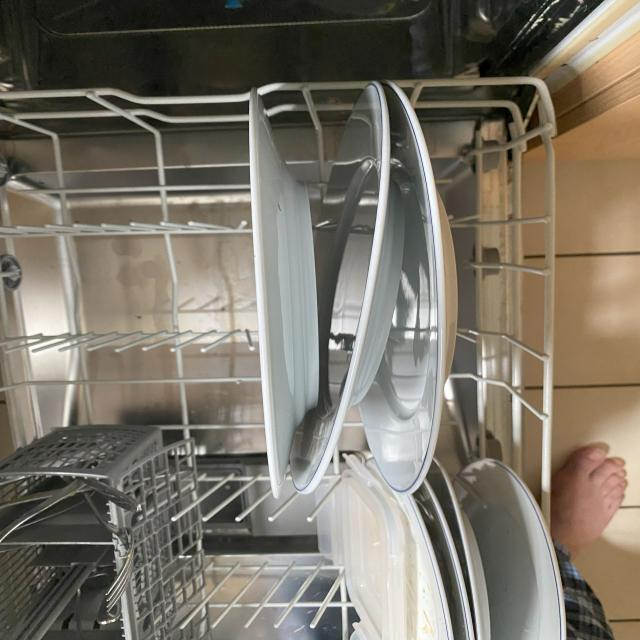clutery_bin: (7, 459, 144, 640)
empty_slot: (4, 103, 252, 433)
